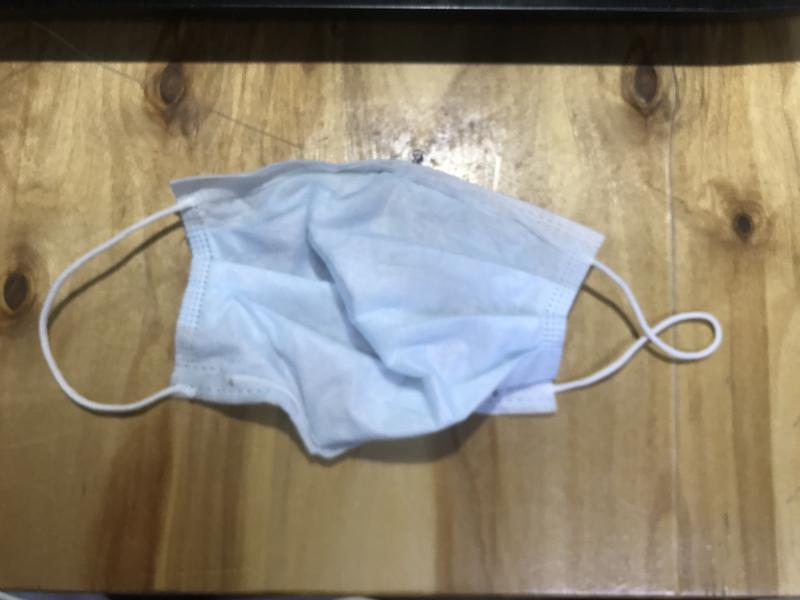medical_mask: (39, 161, 721, 458)
